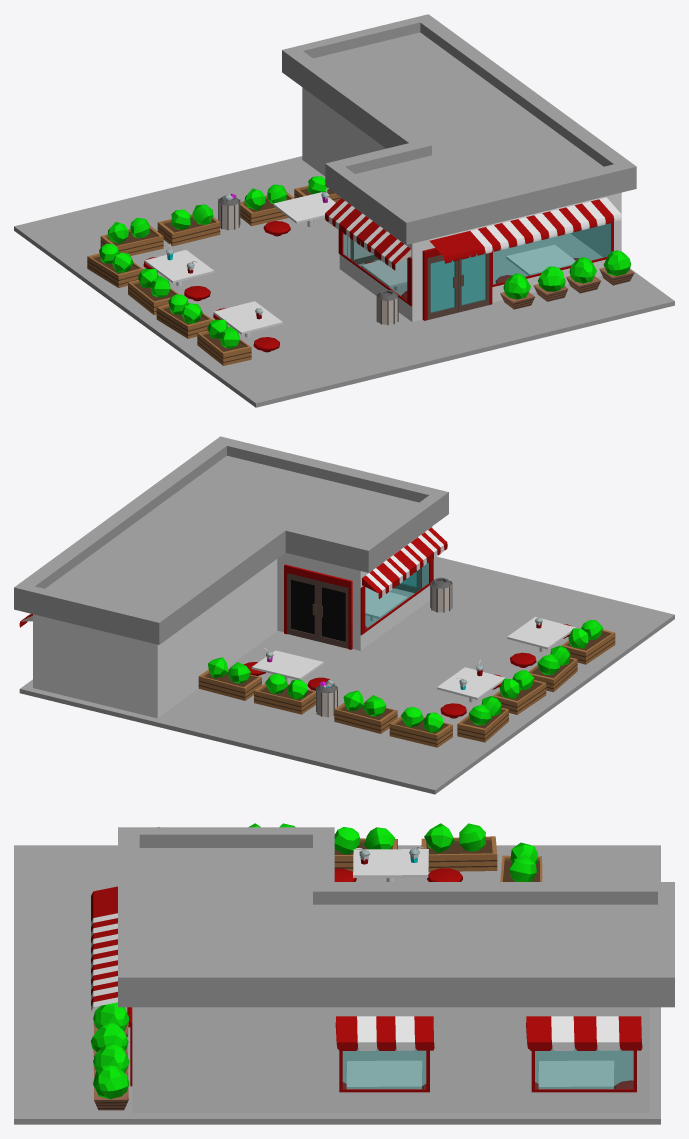
Rendered from Building_Cafe_Mod_01.fbx.
The picture shows the model from 3 angles, top to bottom: view 1: azimuth 30°, elevation 25°; view 2: azimuth 150°, elevation 25°; view 3: azimuth 270°, elevation 25°; orthographic projection. The views are drawn at different scales.
Visible parts, largest first — view 1: Building10, BuildingBase2, Door12, Bush5, Door13, Bush, Bush4, Bush1, Bush3, Bush7, Bush2, Table1 (+10 smaller); view 2: Building10, BuildingBase2, Bush6, Bush5, Bush4, Bush7, Bush3, Bush, Bush2, Bush1, Table1, Table (+4 smaller); view 3: Building10, BuildingBase2, Bush3, polySurface142, polySurface148, Table, Bush2, Bush11, Bush4, Bush8, Bush10, Bush9.
Part boxes in pixels (x1,y1,x2,y2): Building10: [282, 14, 636, 321]; BuildingBase2: [14, 156, 674, 407]; Door12: [427, 255, 458, 319]; Bush5: [157, 204, 220, 246]; Door13: [458, 251, 489, 312]; Bush: [197, 319, 251, 365]; Bush4: [100, 218, 163, 255]; Bush1: [156, 294, 212, 338]; Bush3: [87, 243, 143, 287]; Bush7: [240, 184, 294, 226]; Bush2: [128, 268, 178, 315]; Table1: [213, 301, 282, 337]; Building10: [14, 436, 448, 718]; BuildingBase2: [19, 556, 674, 794]; Bush6: [198, 657, 261, 700]; Bush5: [334, 690, 397, 733]; Bush4: [389, 707, 452, 747]; Bush7: [254, 674, 315, 714]; Bush3: [457, 696, 508, 742]; Bush: [561, 620, 615, 664]; Bush2: [492, 670, 546, 714]; Bush1: [528, 645, 577, 692]; Table1: [507, 617, 575, 651]; Table: [437, 667, 505, 702]; Building10: [91, 827, 674, 1112]; BuildingBase2: [14, 845, 660, 1124]; Bush3: [421, 823, 497, 871]; polySurface142: [346, 1060, 422, 1089]; polySurface148: [538, 1060, 614, 1089]; Table: [353, 849, 428, 881]; Bush2: [334, 827, 397, 871]; Bush11: [93, 1064, 129, 1110]; Bush4: [500, 842, 542, 881]; Bush8: [93, 1002, 129, 1037]; Bush10: [93, 1043, 129, 1077]; Bush9: [90, 1022, 128, 1057].
Bounding box in the file's own units: 10.17 × 2.52 × 10.21.
